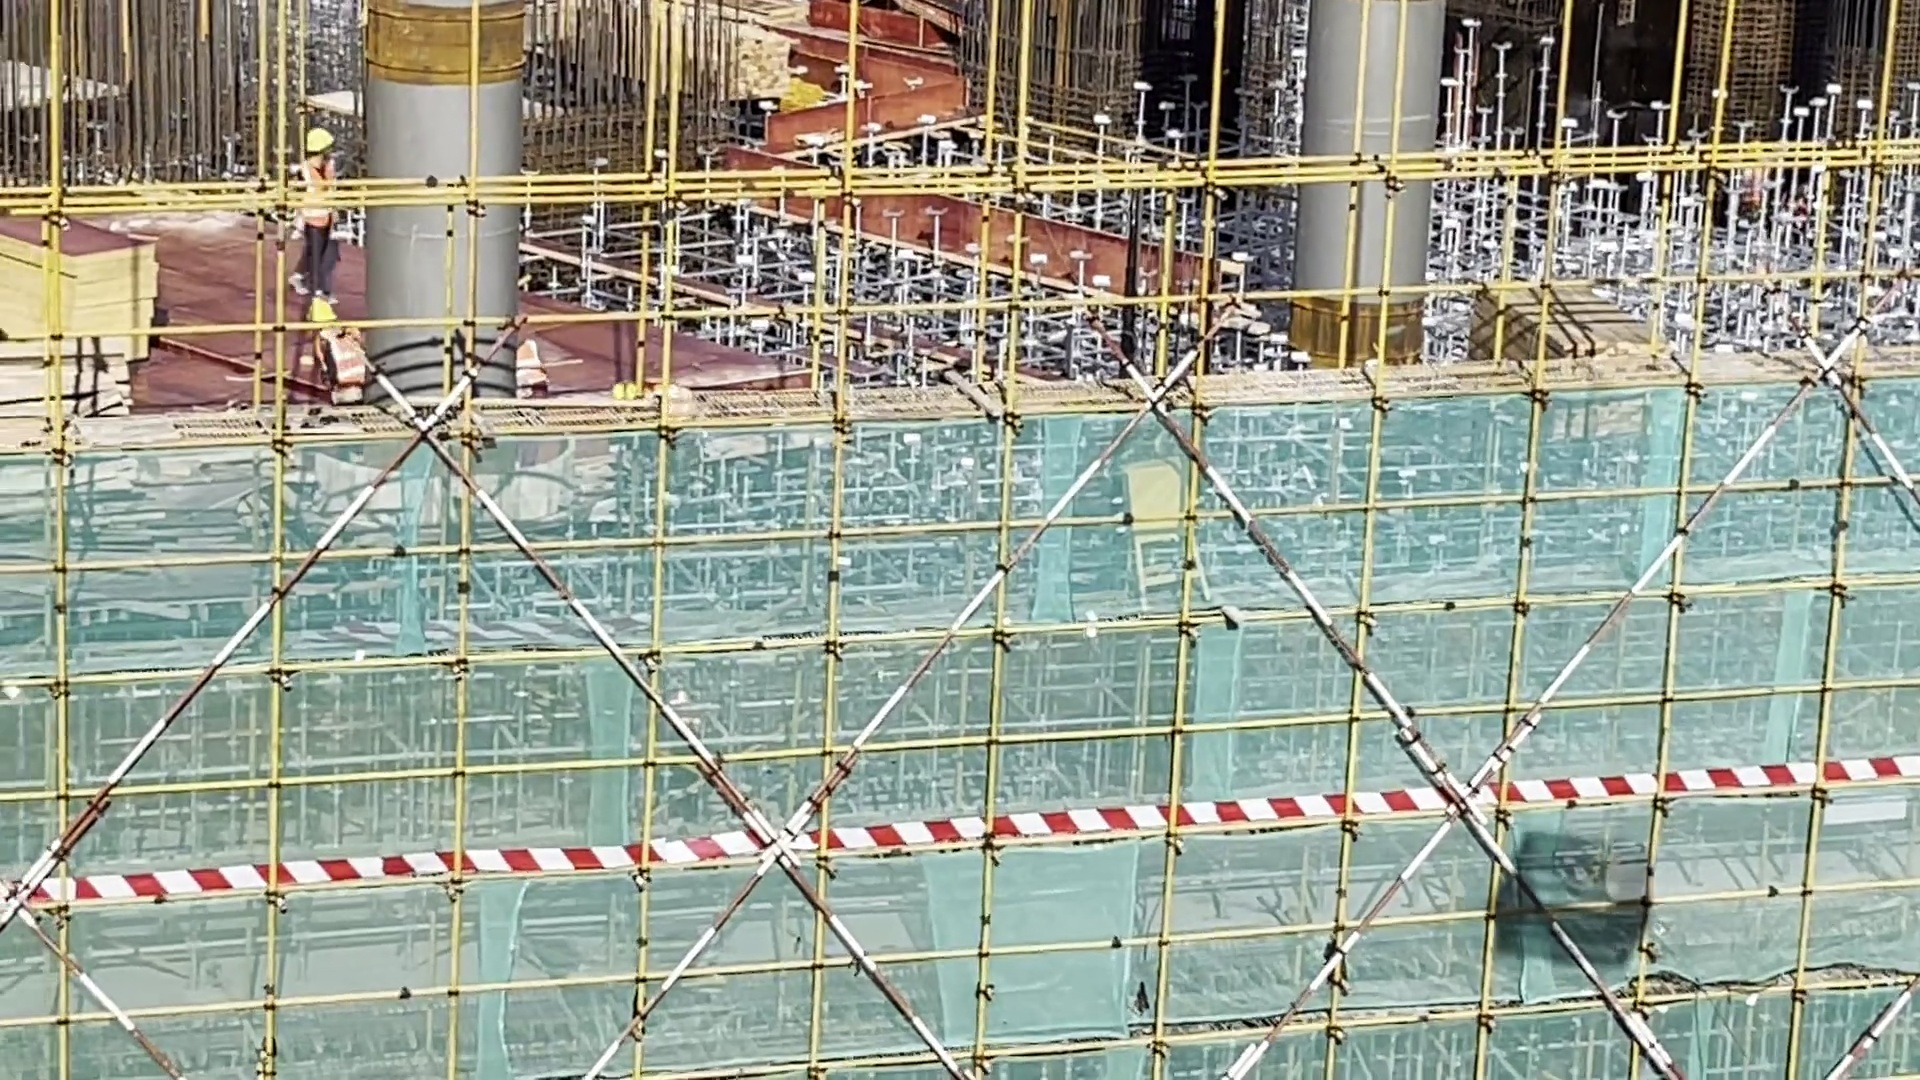board: (1, 197, 176, 401), (1452, 281, 1659, 393)
ebox: (1119, 452, 1218, 614)
helmet: (304, 127, 336, 162), (302, 297, 338, 329)
person: (291, 120, 358, 293), (302, 293, 376, 419), (501, 319, 551, 404)
vest: (315, 324, 372, 403), (299, 162, 348, 242), (513, 337, 553, 392)
wood: (1, 334, 123, 453)
